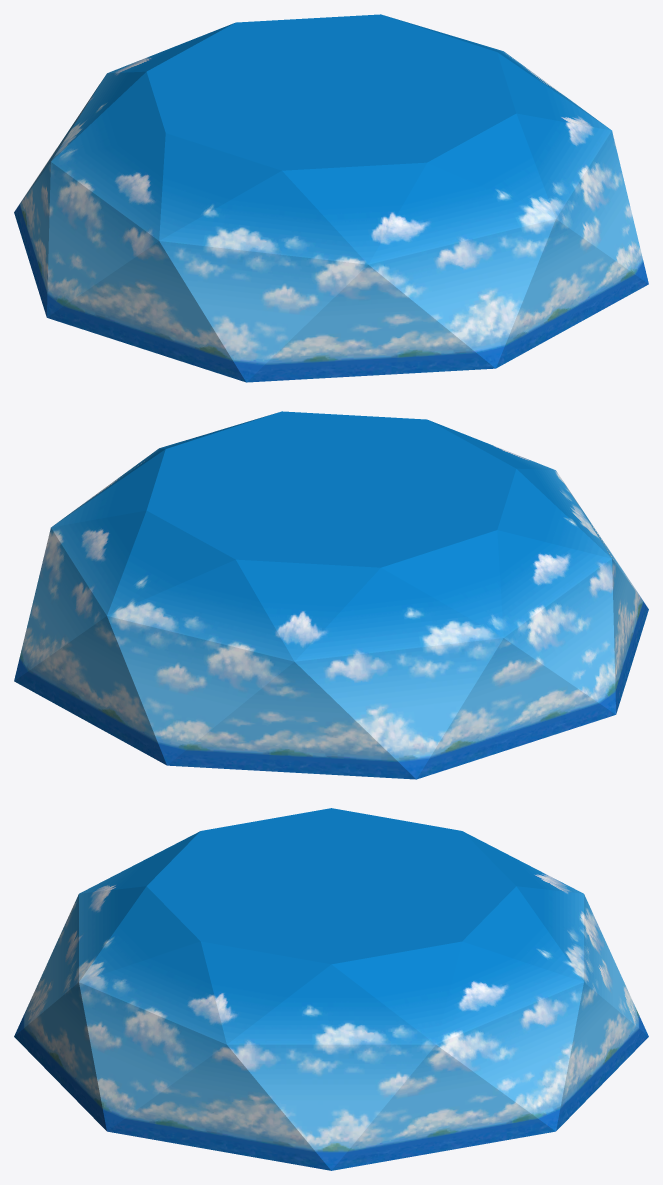
3 views of the same model, one above another, from view 1: azimuth 30°, elevation 25°; view 2: azimuth 150°, elevation 25°; view 3: azimuth 270°, elevation 25° (orthographic). The views are drawn at different scales.
Visible parts, largest first — view 1: vr01; view 2: vr01; view 3: vr01.
Part boxes in pixels (x1,y1,x2,y2): vr01: (14, 14, 648, 382); vr01: (14, 411, 648, 779); vr01: (14, 808, 648, 1170).
Size of the model in its own units: 117964 by 36742 by 117964.
Materials: 3 (3 with a texture image).
